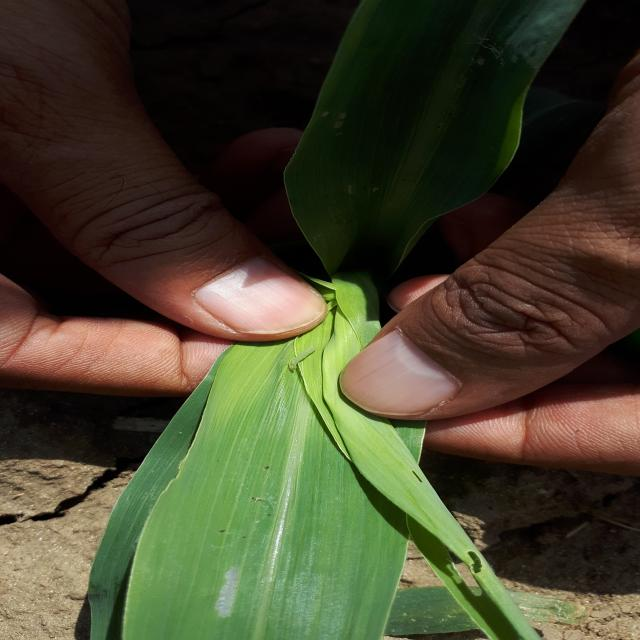armyworm: (288, 346, 319, 374)
